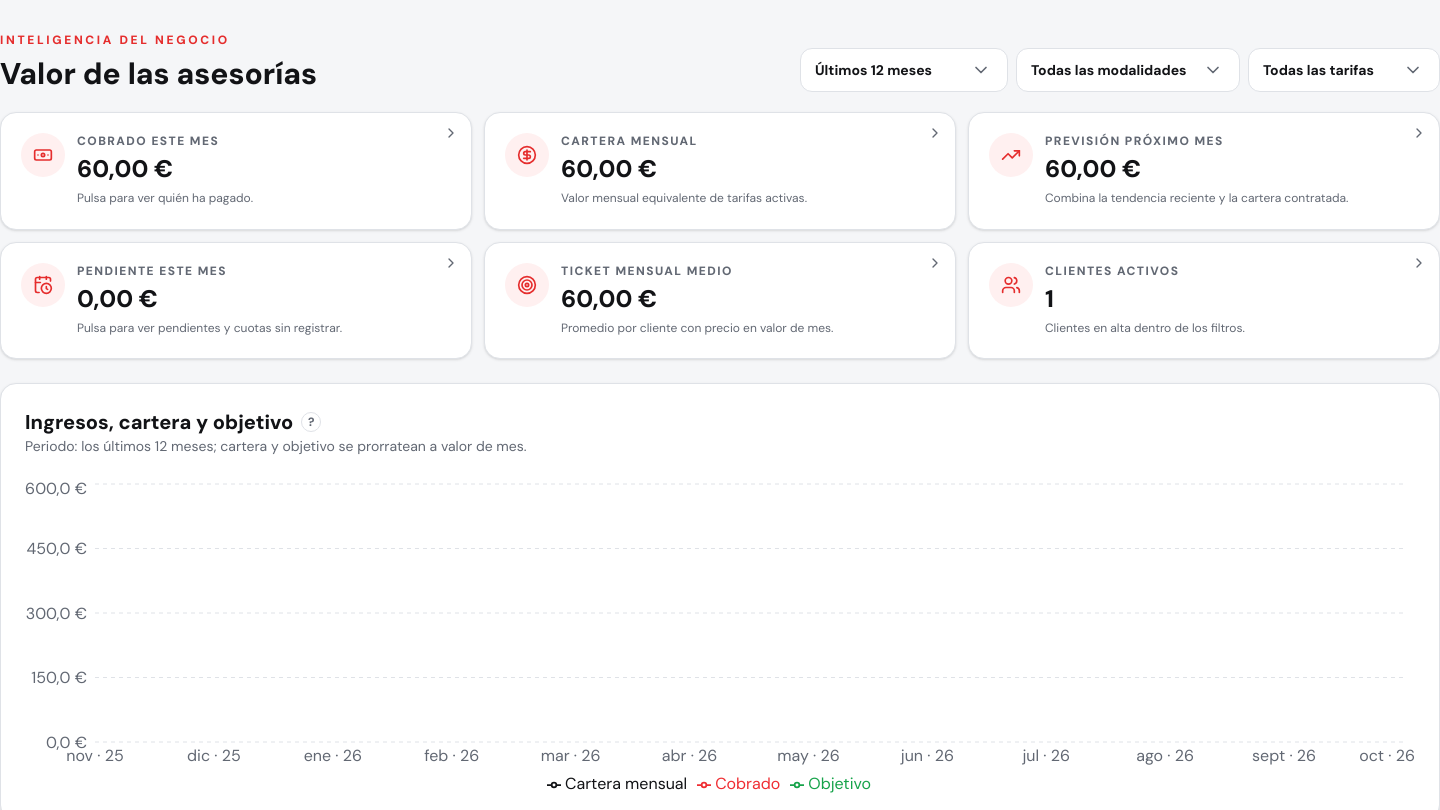
Scenario: DashboardAnalytics › abre clientes activos, permite ir a su ficha y cerrar con Escape
Click the button "Clientes activos 1 Clientes en alta dentro de los filtros." at [1011, 284], box [968,242,1439,359]
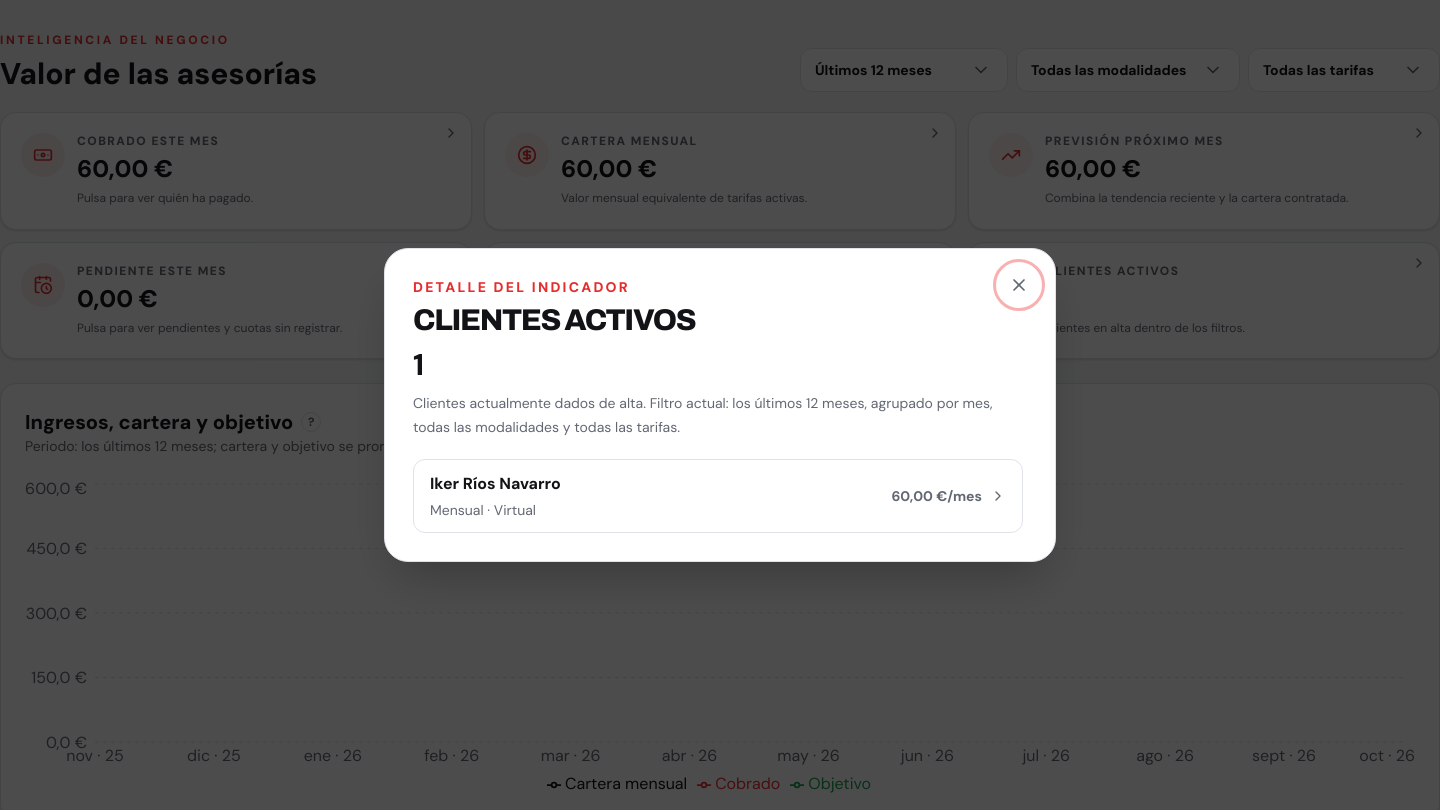
Press Escape
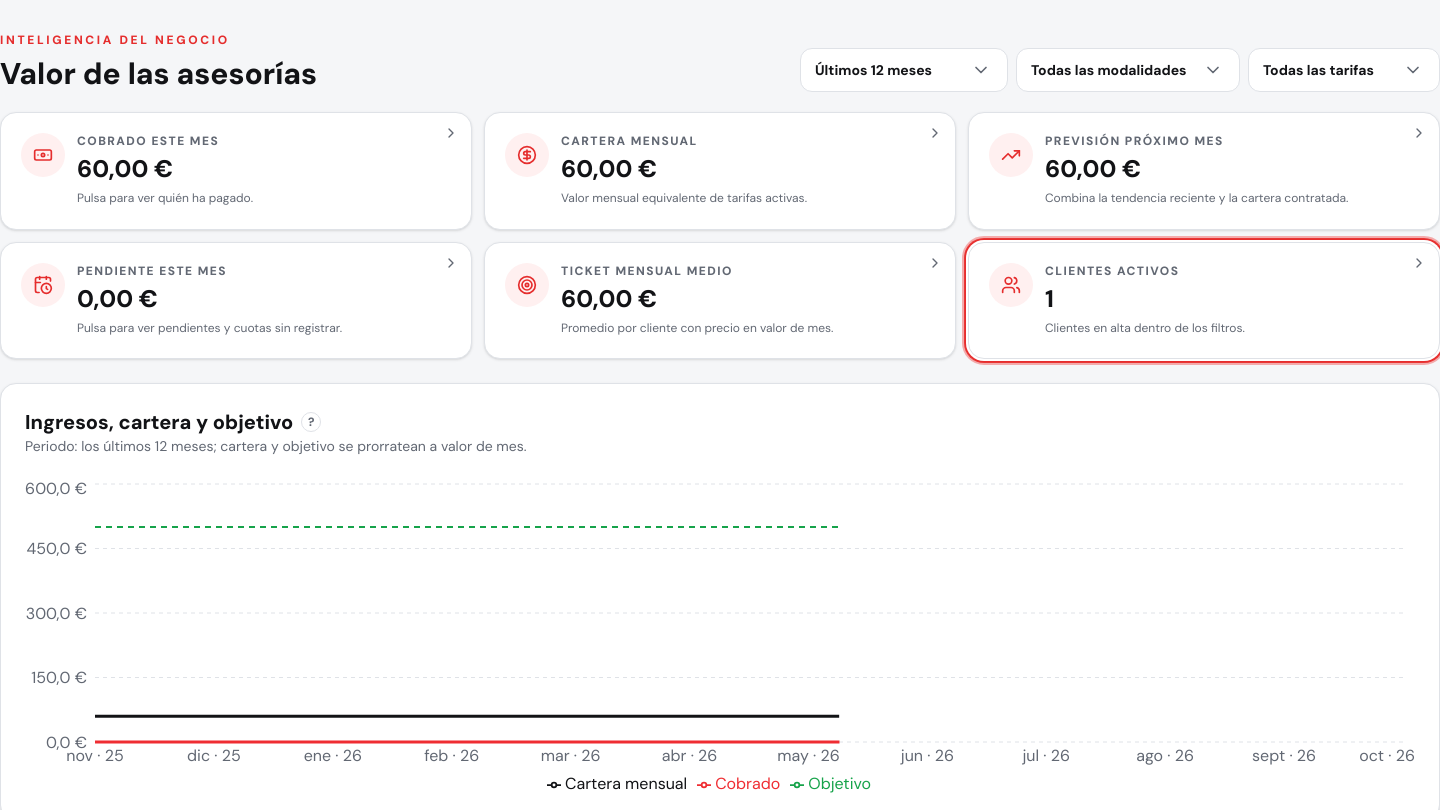
Expected: the dialog is gone
